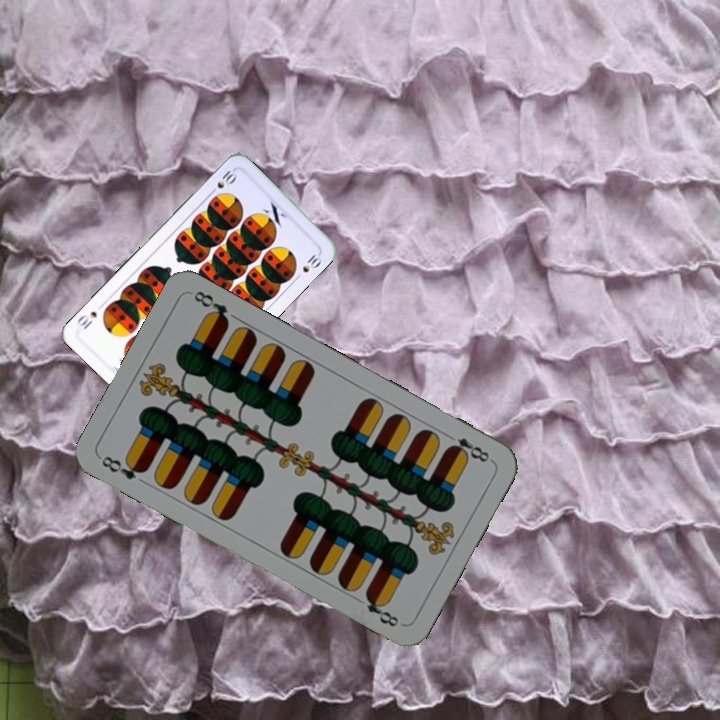E8: (441, 429, 492, 465), (97, 451, 150, 482)
S10: (205, 165, 239, 198)
